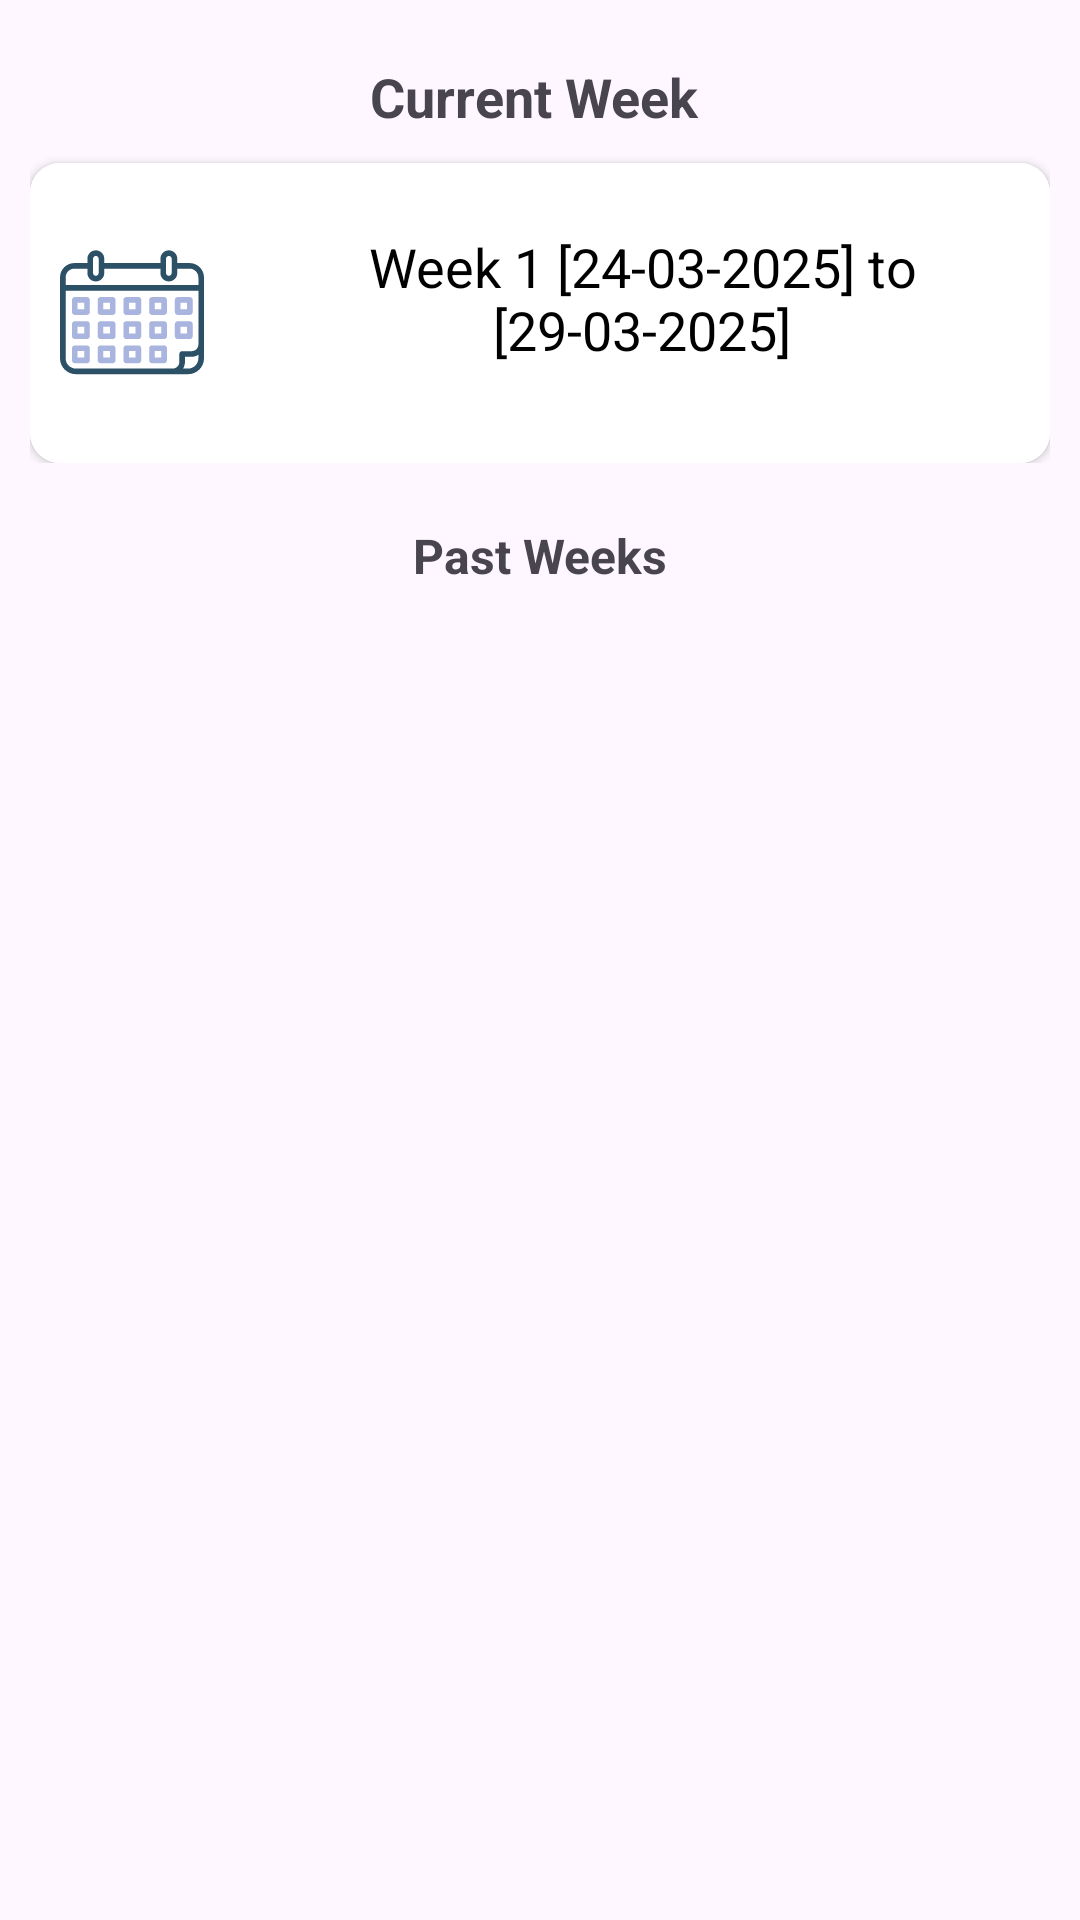

Where icons sit on this 1080*1920 app screen, as Rect(x1, y1, x2, y2):
calender: Rect(60, 250, 204, 375)
